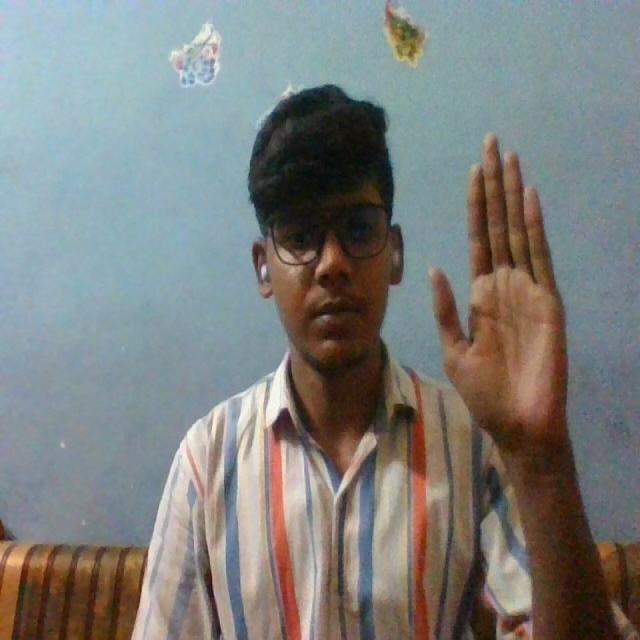Hello: (420, 99, 610, 497)
